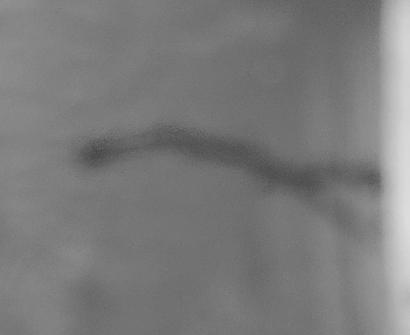scratch: (1, 1, 410, 335)
